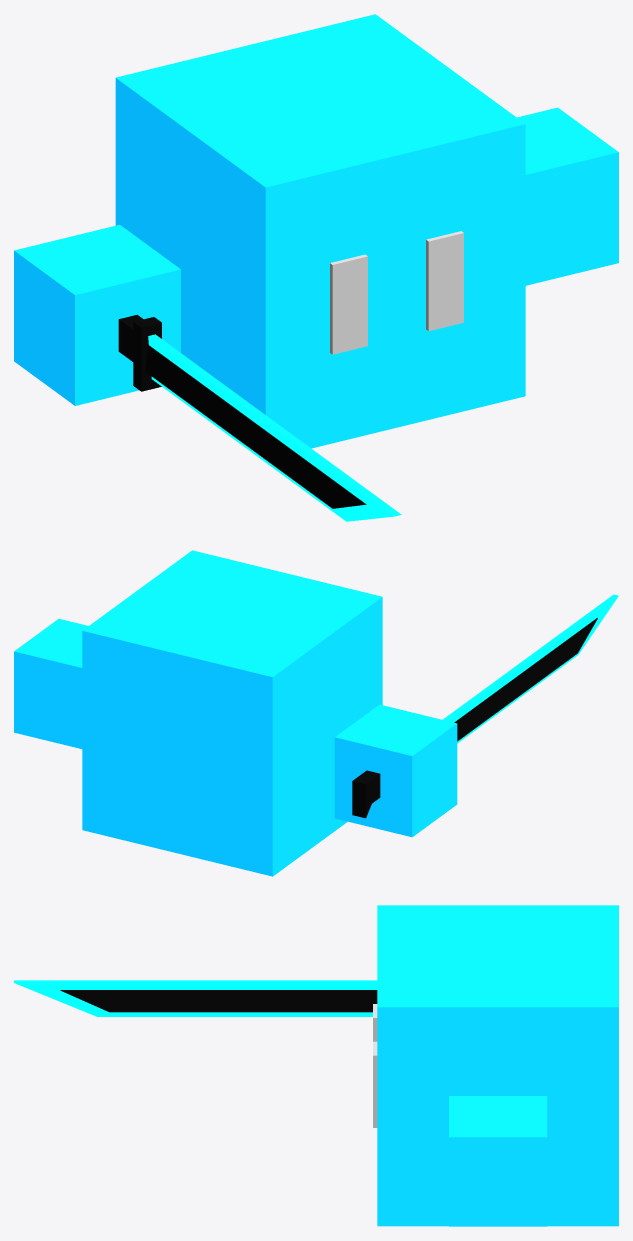
The model's file is player.fbx.
3 renders of one model, top to bottom at view 1: azimuth 30°, elevation 25°; view 2: azimuth 150°, elevation 25°; view 3: azimuth 270°, elevation 25°, orthographic. The views are drawn at different scales.
Visible parts, largest first — view 1: virus Buster, rightHand, leftHand, eyes, blade.001, blade, guard, sword; view 2: virus Buster, rightHand, leftHand, blade.001, blade, sword; view 3: virus Buster, leftHand, blade.001, blade, eyes.
Part boxes in pixels (x1,y1,x2,y2): virus Buster: (115, 14, 525, 448); rightHand: (14, 224, 180, 405); leftHand: (517, 107, 618, 285); eyes: (330, 231, 463, 354); blade.001: (145, 345, 366, 508); blade: (148, 334, 401, 521); guard: (133, 317, 161, 391); sword: (118, 314, 143, 361); virus Buster: (82, 550, 382, 876); rightHand: (334, 704, 457, 837); leftHand: (14, 619, 88, 748); blade.001: (454, 618, 597, 741); blade: (443, 594, 618, 743); sword: (352, 770, 380, 818); virus Buster: (377, 905, 618, 1226); leftHand: (449, 1096, 547, 1226); blade.001: (60, 990, 377, 1012); blade: (14, 980, 377, 1016); eyes: (373, 1004, 377, 1127).
Size of the model in its own units: 418 by 200 by 501.
